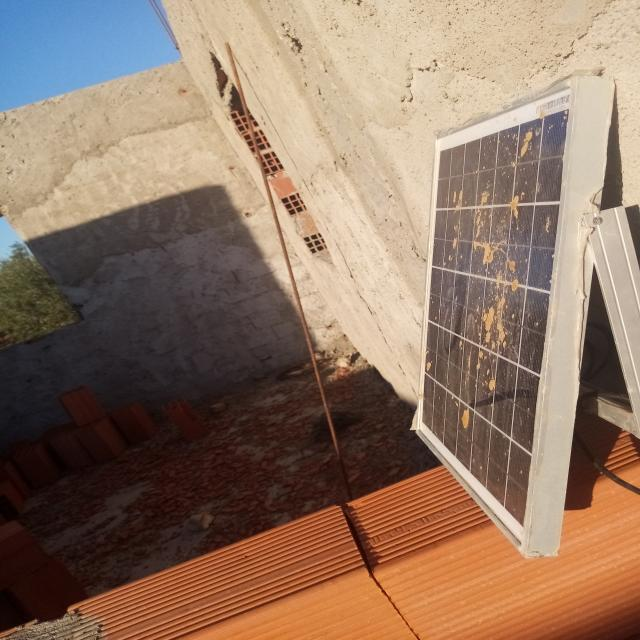faulty: (416, 80, 576, 552)
